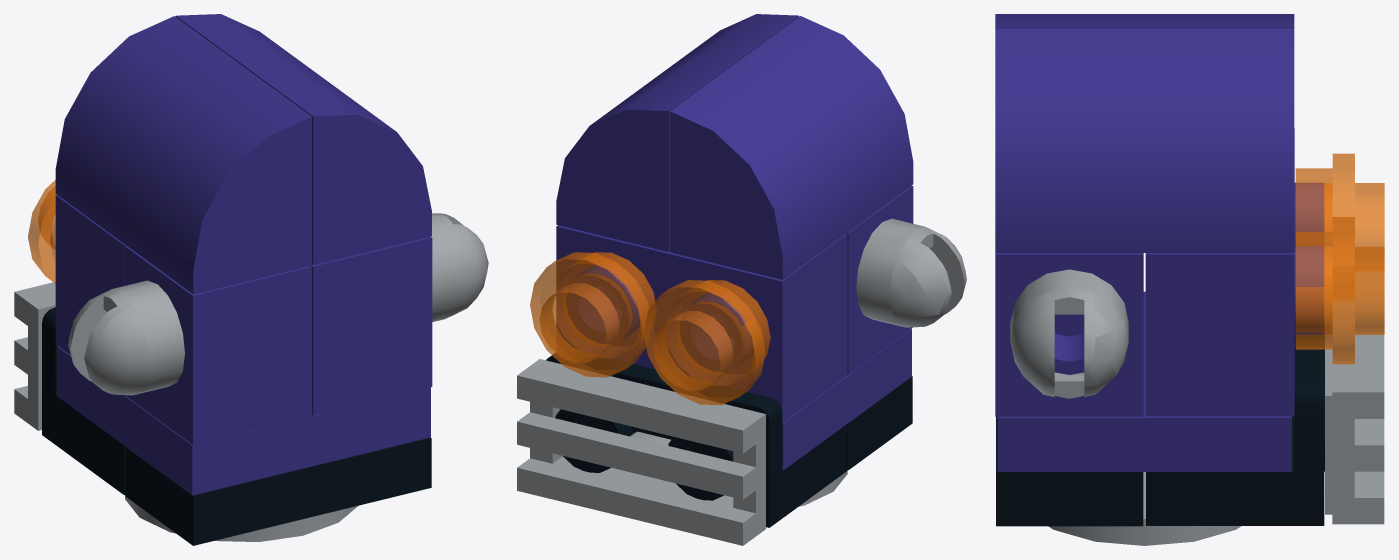
Rendered from head.dae.
The picture shows the model from 3 angles, left to right: view 1: azimuth 30°, elevation 25°; view 2: azimuth 150°, elevation 25°; view 3: azimuth 270°, elevation 25°; orthographic projection. The views are drawn at different scales.
Visible parts, largest first — view 1: 37352_dot_dat.003, 87087_dot_dat.003, 37352_dot_dat.002, 3022_dot_dat.001, 87087_dot_dat.002, 3023_dot_dat.001, 4592_dot_dat.001, 11211_dot_dat.001, 99780_dot_dat.001, 4592_dot_dat.002, 2412b_dot_dat.001, 6141_dot_dat.003 (+1 smaller); view 2: 37352_dot_dat.003, 11211_dot_dat.001, 2412b_dot_dat.001, 37352_dot_dat.002, 6141_dot_dat.003, 6141_dot_dat.002, 99780_dot_dat.001, 4592_dot_dat.001, 3022_dot_dat.001, 87087_dot_dat.003, 3023_dot_dat.001; view 3: 37352_dot_dat.002, 11211_dot_dat.001, 3022_dot_dat.001, 87087_dot_dat.002, 99780_dot_dat.001, 2412b_dot_dat.001, 4592_dot_dat.002, 6141_dot_dat.002, 6141_dot_dat.003, 3023_dot_dat.001, 37352_dot_dat.003, 3679_dot_dat.001.
Part boxes in pixels (<box>): 37352_dot_dat.003: <box>55,16,311,294</box>; 87087_dot_dat.003: <box>124,245,311,444</box>; 37352_dot_dat.002: <box>175,14,431,264</box>; 3022_dot_dat.001: <box>57,346,430,495</box>; 87087_dot_dat.002: <box>311,236,432,415</box>; 3023_dot_dat.001: <box>125,437,431,545</box>; 4592_dot_dat.001: <box>68,280,184,395</box>; 11211_dot_dat.001: <box>55,195,126,354</box>; 99780_dot_dat.001: <box>42,307,125,494</box>; 4592_dot_dat.002: <box>431,213,488,322</box>; 2412b_dot_dat.001: <box>14,282,55,430</box>; 6141_dot_dat.003: <box>28,180,56,283</box>; 37352_dot_dat.003: <box>670,16,913,279</box>; 11211_dot_dat.001: <box>556,225,847,422</box>; 2412b_dot_dat.001: <box>517,359,765,545</box>; 37352_dot_dat.002: <box>556,14,799,251</box>; 6141_dot_dat.003: <box>643,280,770,405</box>; 6141_dot_dat.002: <box>530,252,656,377</box>; 99780_dot_dat.001: <box>546,353,847,527</box>; 4592_dot_dat.001: <box>856,218,966,327</box>; 3022_dot_dat.001: <box>782,329,911,470</box>; 87087_dot_dat.003: <box>846,185,913,374</box>; 3023_dot_dat.001: <box>847,376,912,470</box>; 37352_dot_dat.002: <box>995,28,1294,252</box>; 11211_dot_dat.001: <box>1145,128,1324,416</box>; 3022_dot_dat.001: <box>997,291,1291,471</box>; 87087_dot_dat.002: <box>995,253,1143,416</box>; 99780_dot_dat.001: <box>1146,335,1324,525</box>; 2412b_dot_dat.001: <box>1325,271,1384,524</box>; 4592_dot_dat.002: <box>1010,269,1128,398</box>; 6141_dot_dat.002: <box>1295,217,1384,364</box>; 6141_dot_dat.003: <box>1295,153,1384,300</box>; 3023_dot_dat.001: <box>996,416,1143,526</box>; 37352_dot_dat.003: <box>995,14,1294,28</box>; 3679_dot_dat.001: <box>1048,472,1241,545</box>.
Size of the model in its own units: 2.68 by 2.07 by 2.87.
